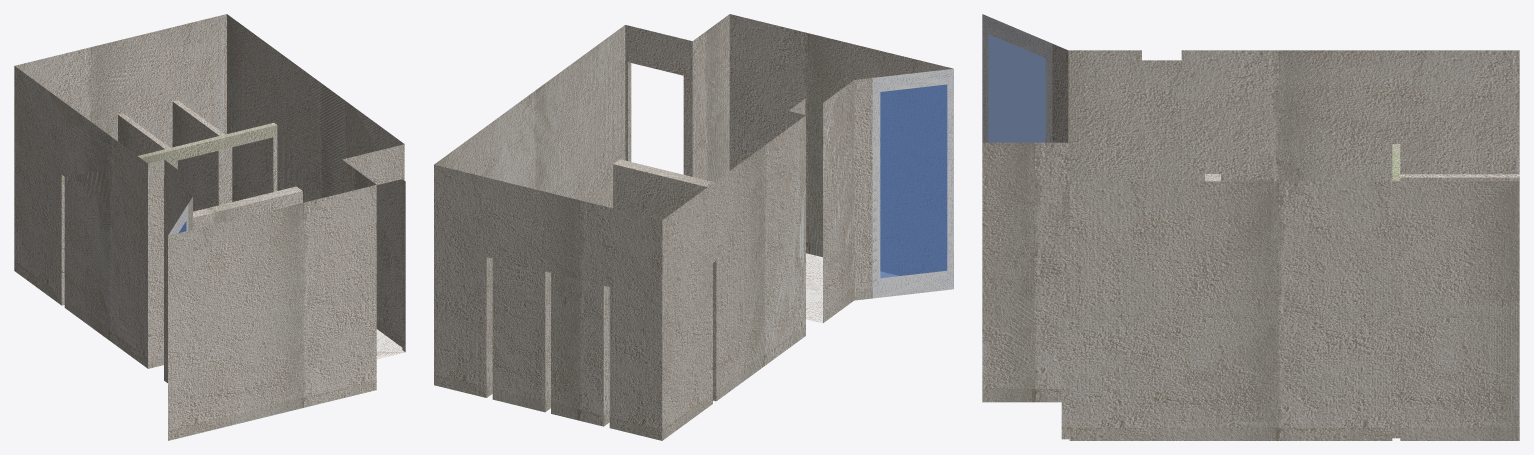
File: COM009.obj
3 renders of one model, left to right at view 1: azimuth 30°, elevation 25°; view 2: azimuth 150°, elevation 25°; view 3: azimuth 270°, elevation 25°, orthographic. The views are drawn at different scales.
Visible parts, largest first — view 1: Mesh91 COM009 Model; view 2: Mesh91 COM009 Model; view 3: Mesh91 COM009 Model.
Part boxes in pixels (box(x1,y1,x2,y2)): Mesh91 COM009 Model: box(14, 14, 405, 440); Mesh91 COM009 Model: box(434, 14, 953, 440); Mesh91 COM009 Model: box(982, 14, 1519, 440).
Size of the model in its own units: 4.98 by 3.6 by 6.76.
Materials: 9 (3 with a texture image).
